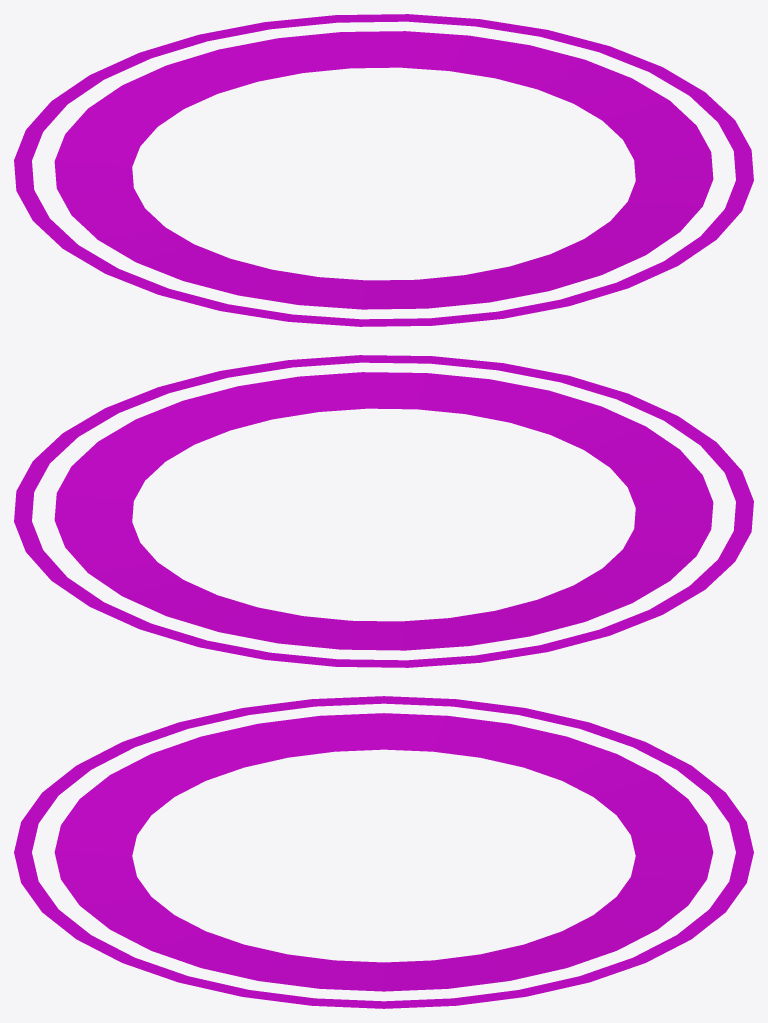
Rendered from Logic_Planet_Ring_01.fbx.
The picture shows the model from 3 angles, top to bottom: view 1: azimuth 30°, elevation 25°; view 2: azimuth 150°, elevation 25°; view 3: azimuth 270°, elevation 25°; orthographic projection.
Visible parts, largest first — view 1: Logic_Planet_Ring_01; view 2: Logic_Planet_Ring_01; view 3: Logic_Planet_Ring_01.
Part boxes in pixels (x1=…): Logic_Planet_Ring_01: x1=14, y1=14, x2=753, y2=326; Logic_Planet_Ring_01: x1=14, y1=355, x2=753, y2=667; Logic_Planet_Ring_01: x1=14, y1=696, x2=753, y2=1008.
Size of the model in its own units: 15.19 by 0.0843 by 15.19.
